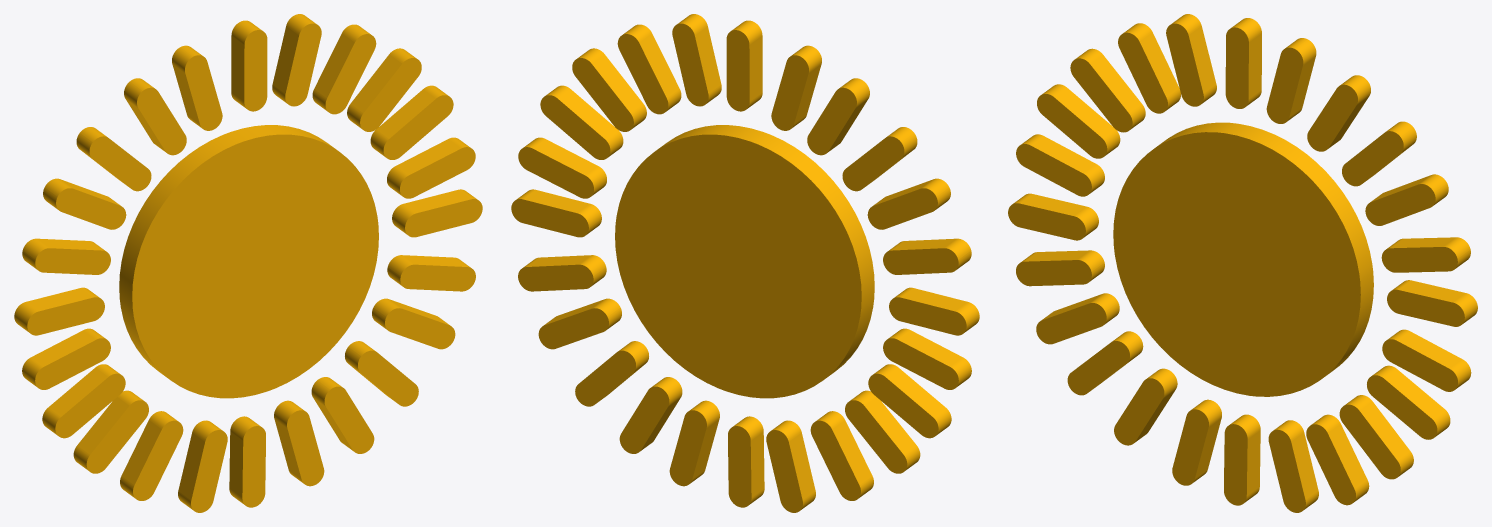
File: Sol.fbx
The picture shows the model from 3 angles, left to right: view 1: azimuth 30°, elevation 25°; view 2: azimuth 150°, elevation 25°; view 3: azimuth 330°, elevation 25°; orthographic projection.
Visible parts, largest first — view 1: Extrusión_2; view 2: Extrusión_2; view 3: Extrusión_2.
Boxes of the visible parts, <box> form: Extrusión_2: <box>14,14,482,512</box>; Extrusión_2: <box>511,14,979,512</box>; Extrusión_2: <box>1008,14,1477,512</box>.
Bounding box in the file's own units: 20.18 × 20.18 × 1.
